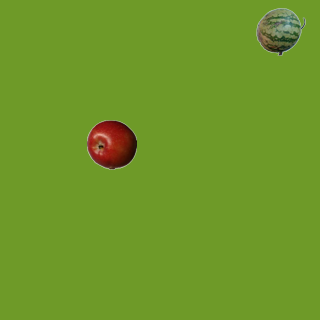Apple Braeburn: (86, 119, 136, 169)
Watermelon: (255, 6, 305, 56)
